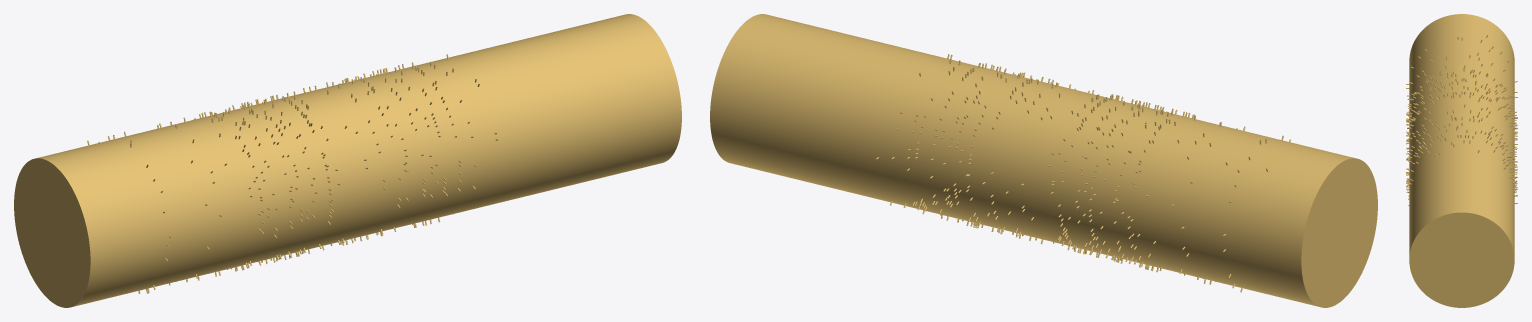
The model's file is Cylinder-3-Mozart.glb.
The picture shows the model from 3 angles, left to right: view 1: azimuth 30°, elevation 25°; view 2: azimuth 150°, elevation 25°; view 3: azimuth 270°, elevation 25°; orthographic projection. The views are drawn at different scales.
Parts seen in each view (by area): view 1: cylinder_body; view 2: cylinder_body; view 3: cylinder_body.
Boxes of the visible parts, x1,y1,x2,y2 form: cylinder_body: (14,14,681,307); cylinder_body: (710,14,1377,307); cylinder_body: (1409,14,1514,307).
Size of the model in its own units: 0.214 by 0.051 by 0.051.
